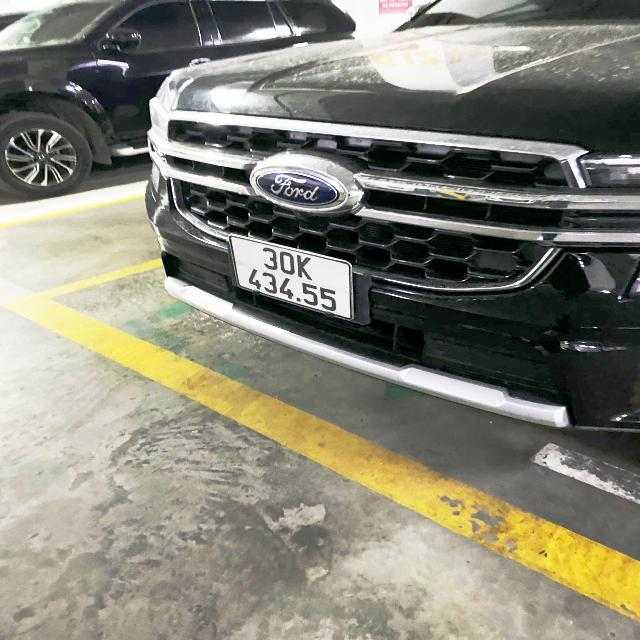license_plate: (226, 232, 356, 328)
